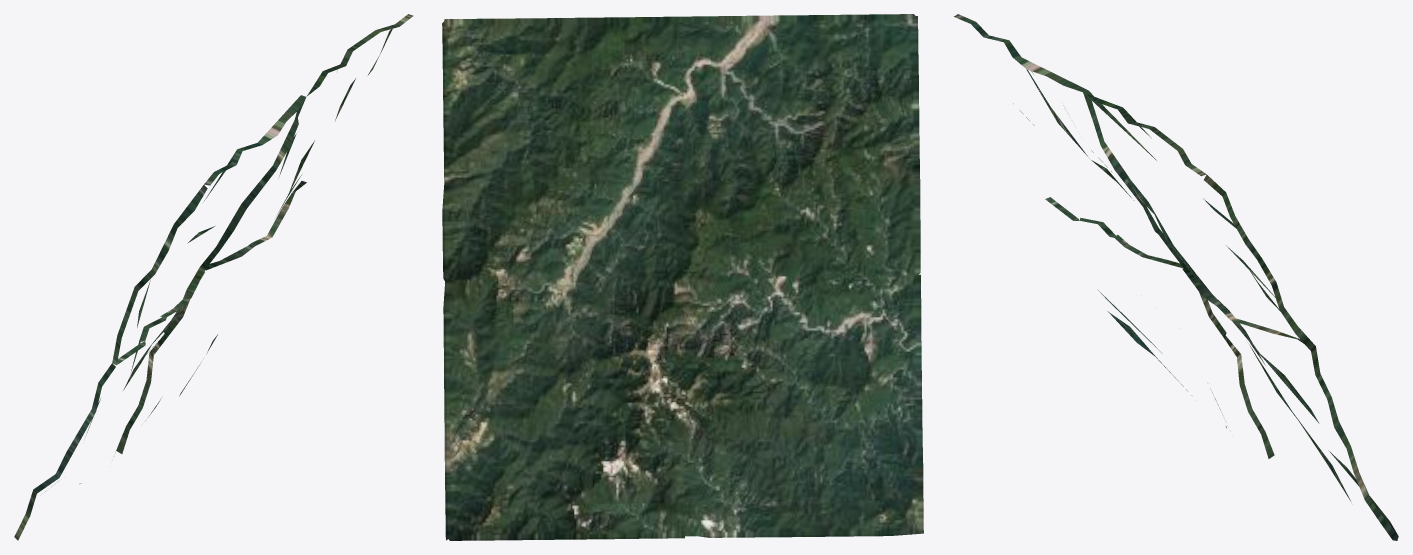
3 renders of one model, left to right at view 1: azimuth 30°, elevation 25°; view 2: azimuth 150°, elevation 25°; view 3: azimuth 270°, elevation 25°, orthographic. The views are drawn at different scales.
Size of the model in its own units: 39507 by 36345 by 34625.
1 material, 1 textured.
